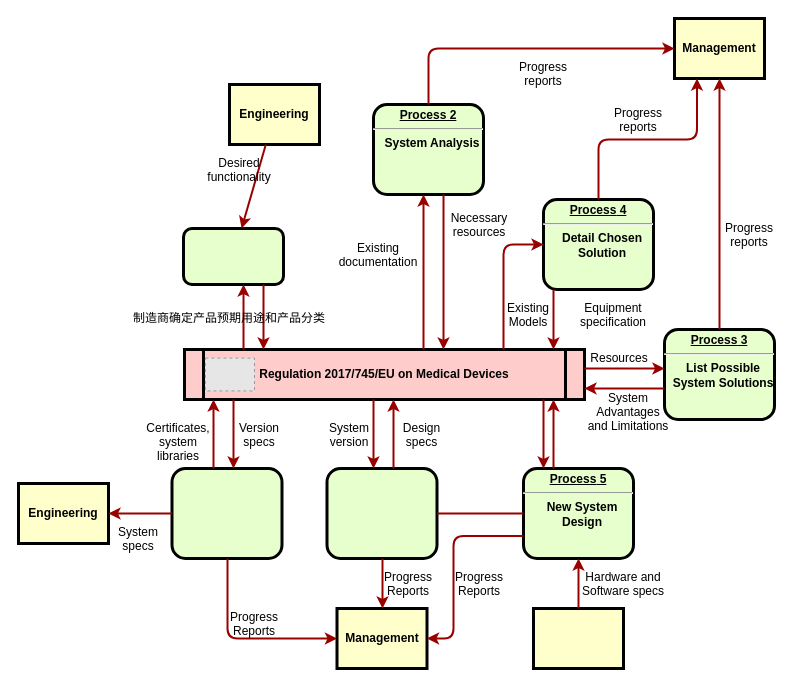
The diagram is 793 pixels wide and 687 high, and some of its shapes have lost their labels. Grey dashed boxes stand in for pictures. The shapes that lost their labels are listed below. From the top down, each one's centre as x and y in pixels, then its label:
At point (233, 256): "Process 1 定义与分类".
At point (226, 513): "Process 6 New System Construction".
At point (381, 513): "Process 7 New System Startup and Testing".
At point (578, 638): "Vendors".
